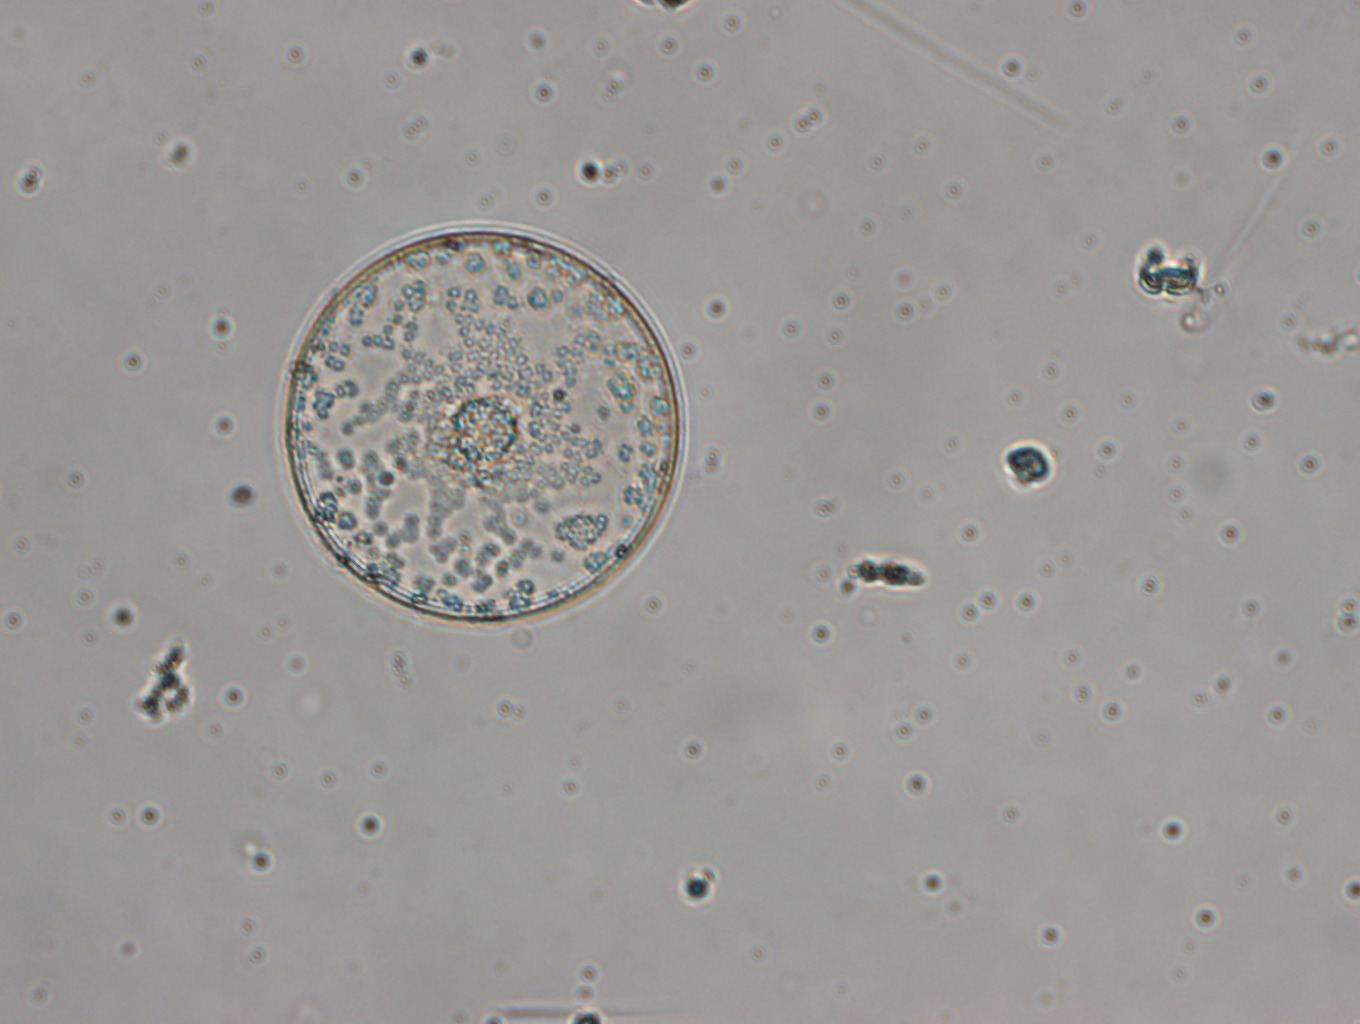coscinodiscus: (280, 218, 687, 629)
